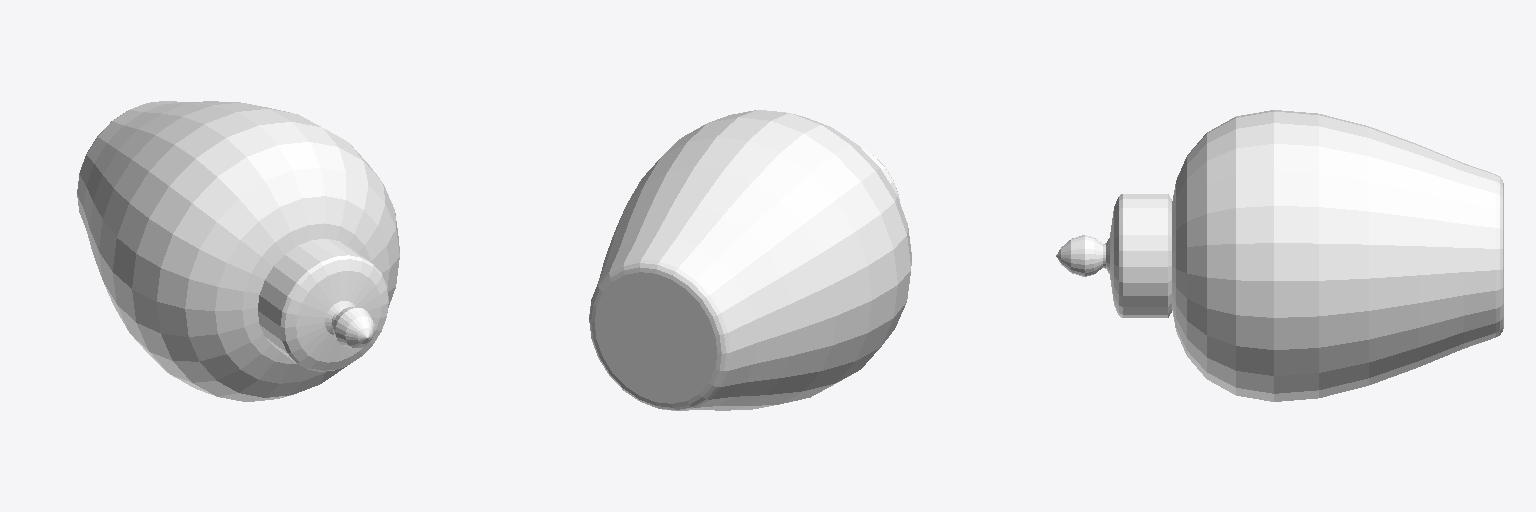
The model's file is vase4.obj.
The picture shows the model from 3 angles: view 1: azimuth 30°, elevation 25°; view 2: azimuth 150°, elevation 25°; view 3: azimuth 270°, elevation 25°; orthographic projection.
Bounding box in the file's own units: 14.98 × 14.98 × 22.88.